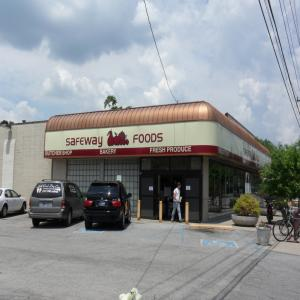Vehicle-registration-plate: (44, 201, 50, 206), (99, 201, 105, 206)
